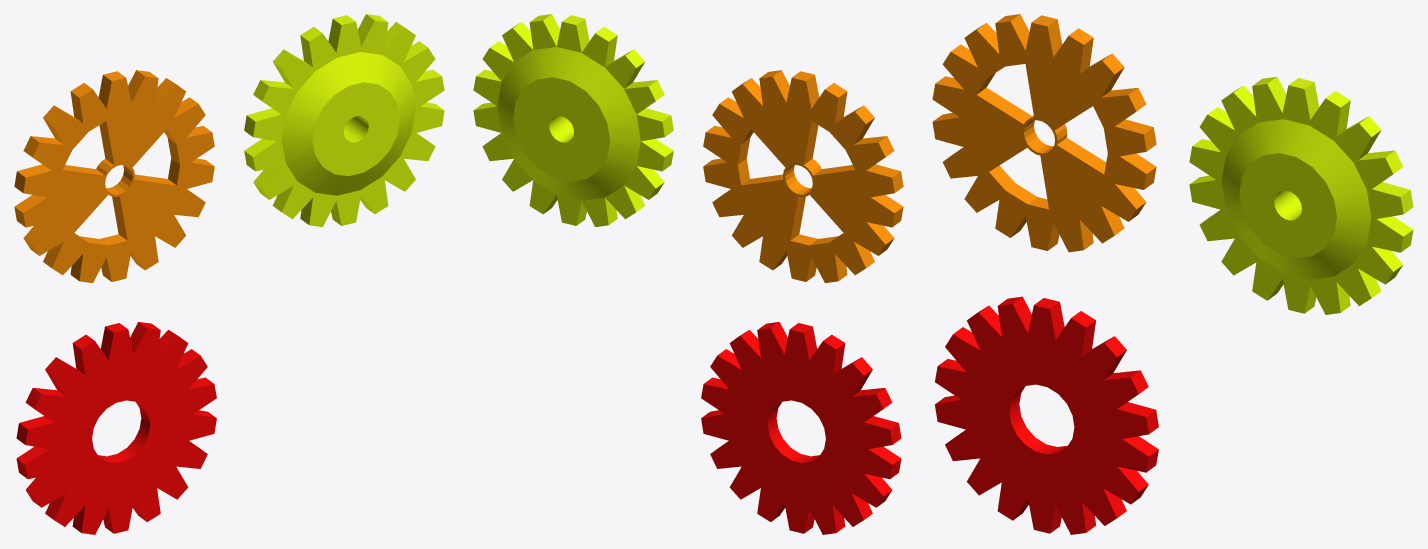
File: Gears.fbx
3 renders of one model, left to right at view 1: azimuth 30°, elevation 25°; view 2: azimuth 150°, elevation 25°; view 3: azimuth 330°, elevation 25°, orthographic. The views are drawn at different scales.
Visible parts, largest first — view 1: Gear3, Gear1, Gear2; view 2: Gear3, Gear1, Gear2; view 3: Gear3, Gear1, Gear2.
Part boxes in pixels (left/top/right/bottom): Gear3: left=244, top=14, right=444, bottom=226; Gear1: left=16, top=322, right=216, bottom=534; Gear2: left=14, top=70, right=214, bottom=283; Gear3: left=473, top=14, right=673, bottom=226; Gear1: left=701, top=322, right=901, bottom=534; Gear2: left=703, top=70, right=903, bottom=283; Gear3: left=1189, top=76, right=1413, bottom=314; Gear1: left=935, top=296, right=1158, bottom=534; Gear2: left=932, top=14, right=1156, bottom=252.
Size of the model in its own units: 507 by 521 by 49.63.
